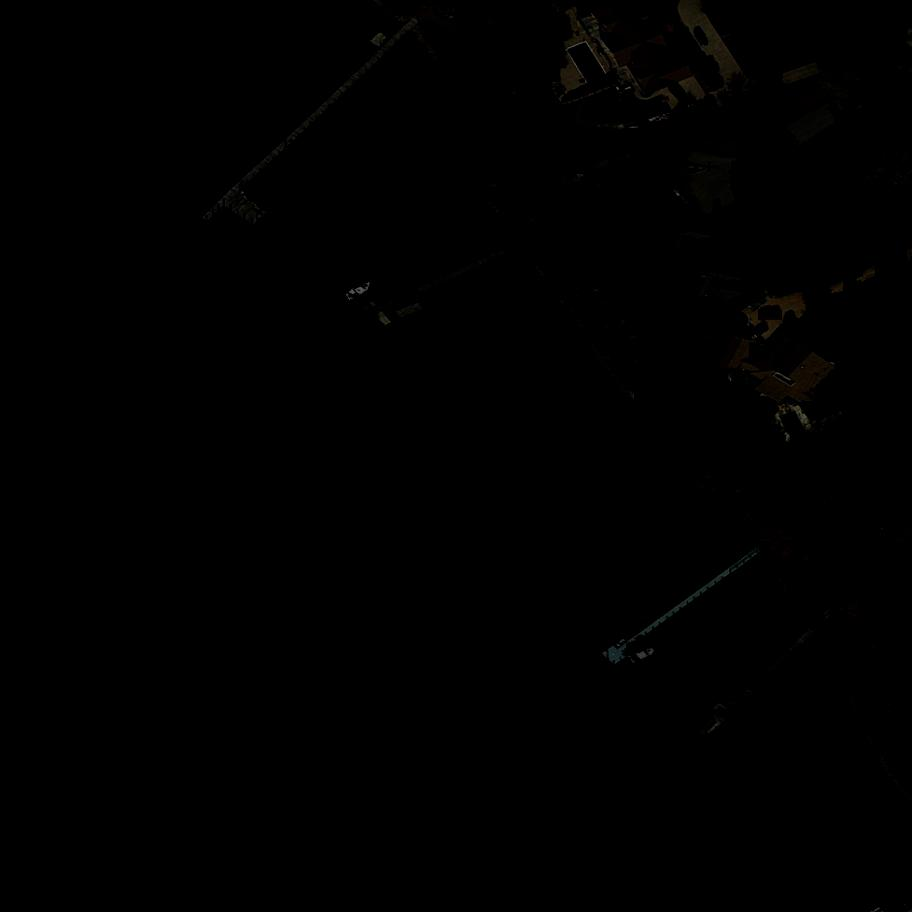ship: (343, 277, 380, 307), (626, 641, 661, 669)
small-vehicle: (746, 320, 771, 345), (750, 339, 771, 362), (758, 309, 781, 320)
